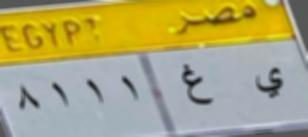1: (83, 73, 109, 110), (46, 78, 75, 110), (117, 73, 141, 105)
8: (12, 79, 42, 120)
ghayn: (176, 59, 217, 112)
yaa: (248, 60, 295, 108)
